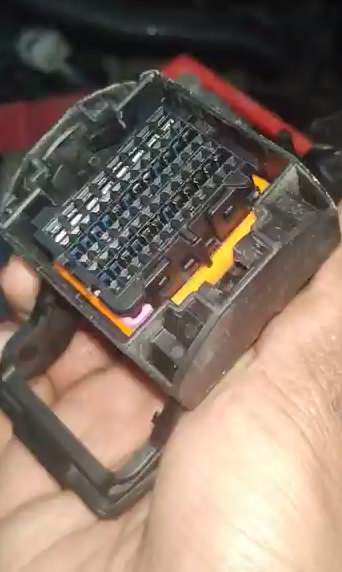connector: (10, 53, 317, 437)
